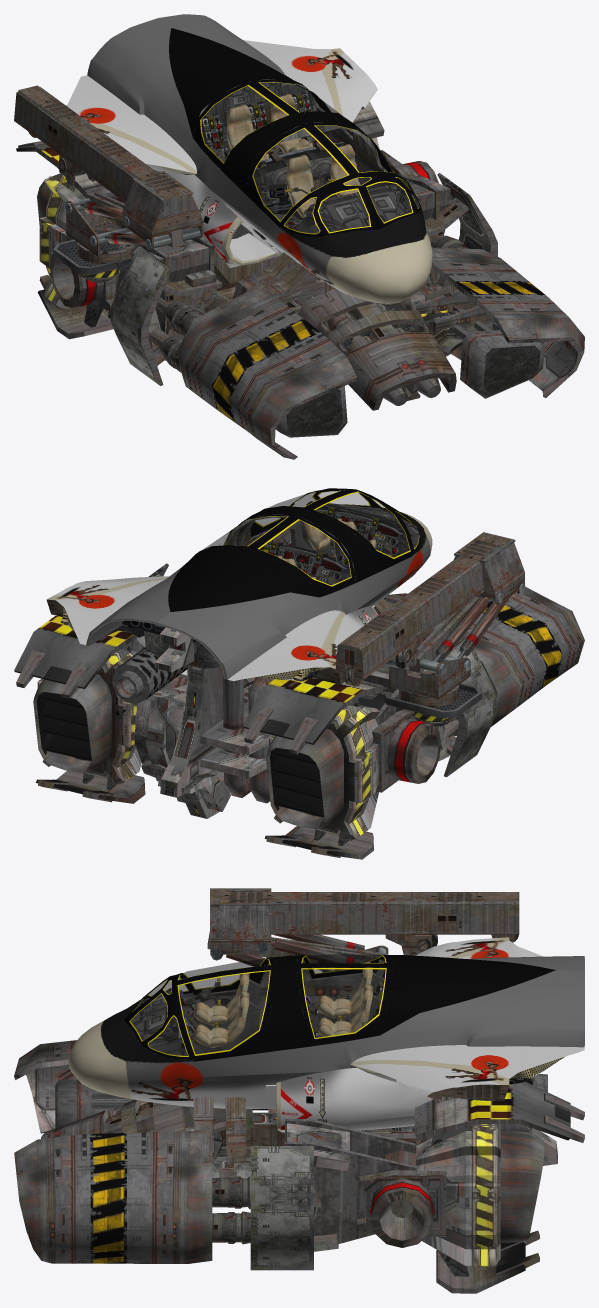
The model's file is FlyerTug(obj).obj.
3 views of the same model, one above another, from view 1: azimuth 30°, elevation 25°; view 2: azimuth 150°, elevation 25°; view 3: azimuth 270°, elevation 25° (orthographic). The views are drawn at different scales.
Parts seen in each view (by area): view 1: Fuselage side, Frontcowl, Frontcowl_1, Hiab, Frontbonnet, Wings, Cockpit blk outer, Canopy_GlassFrntH, Mid_detail, Reardetail(Nozzle)_1, Reardetail(Pivot)_1, blk rear cockpit (+21 smaller); view 2: tailweb, Hiab, Reardetail(Nozzle)_1, Fuselage side, Reardetail(Nozzle), Wings, Frontcowl, blk rear cockpit, Backvent_1, Backvent, Canopy_GlassRearH, Reardetail(Pivot)_1 (+13 smaller); view 3: Fuselage side, Frontcowl_1, Reardetail(Nozzle), Hiab, Reardetail(Pivot), Wings, Mid_detail_1, Intake Outer, Frontbonnet, blk rear cockpit, Canopy_GlassFrntH, Canopy_GlassRearH (+19 smaller).
Part boxes in pixels (x1=…): Fuselage side: x1=87, y1=14, x2=432, y2=303; Frontcowl: x1=177, y1=284, x2=357, y2=459; Frontcowl_1: x1=410, y1=247, x2=584, y2=398; Hiab: x1=14, y1=85, x2=203, y2=264; Frontbonnet: x1=194, y1=252, x2=456, y2=410; Wings: x1=66, y1=40, x2=377, y2=174; Cockpit blk outer: x1=193, y1=79, x2=418, y2=236; Canopy_GlassFrntH: x1=253, y1=126, x2=408, y2=220; Mid_detail: x1=110, y1=246, x2=221, y2=385; Reardetail(Nozzle)_1: x1=16, y1=141, x2=121, y2=339; Reardetail(Pivot)_1: x1=50, y1=237, x2=287, y2=360; blk rear cockpit: x1=169, y1=28, x2=311, y2=137; tailweb: x1=112, y1=627, x2=273, y2=818; Hiab: x1=335, y1=532, x2=525, y2=707; Reardetail(Nozzle)_1: x1=243, y1=677, x2=415, y2=859; Fuselage side: x1=86, y1=507, x2=432, y2=687; Reardetail(Nozzle): x1=14, y1=616, x2=145, y2=803; Wings: x1=46, y1=576, x2=358, y2=684; Frontcowl: x1=430, y1=587, x2=584, y2=726; blk rear cockpit: x1=168, y1=547, x2=319, y2=611; Backvent_1: x1=265, y1=729, x2=343, y2=829; Backvent: x1=33, y1=674, x2=111, y2=773; Canopy_GlassRearH: x1=202, y1=517, x2=350, y2=584; Reardetail(Pivot)_1: x1=359, y1=664, x2=449, y2=783; Fuselage side: x1=68, y1=956, x2=584, y2=1108; Frontcowl_1: x1=14, y1=1129, x2=212, y2=1263; Reardetail(Nozzle): x1=356, y1=1082, x2=584, y2=1293; Hiab: x1=207, y1=888, x2=519, y2=972; Reardetail(Pivot): x1=285, y1=1119, x2=434, y2=1251; Wings: x1=350, y1=937, x2=584, y2=1100; Mid_detail_1: x1=250, y1=1146, x2=313, y2=1270; Intake Outer: x1=276, y1=1068, x2=433, y2=1132; Frontbonnet: x1=41, y1=1097, x2=253, y2=1178; blk rear cockpit: x1=380, y1=955, x2=555, y2=1035; Canopy_GlassFrntH: x1=179, y1=958, x2=269, y2=1053; Canopy_GlassRearH: x1=302, y1=954, x2=385, y2=1037.
Bounding box in the file's own units: 18.57 × 11.17 × 23.04.
Materials: 40 (39 with a texture image).
